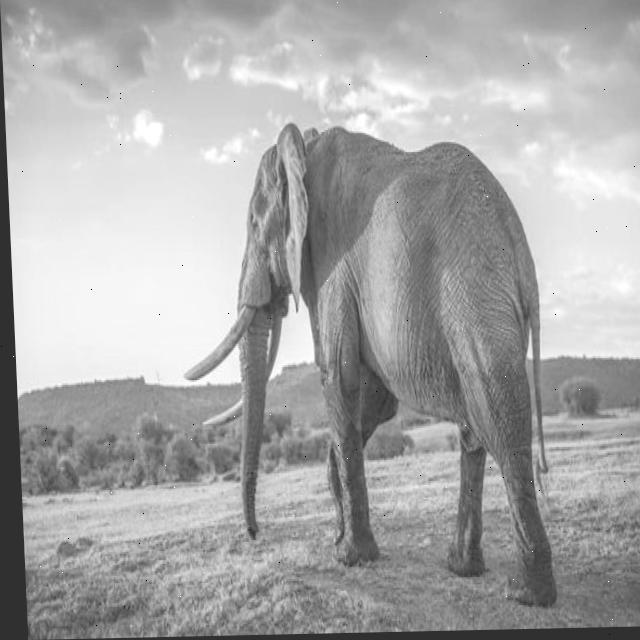Elephant: (171, 114, 558, 614)
